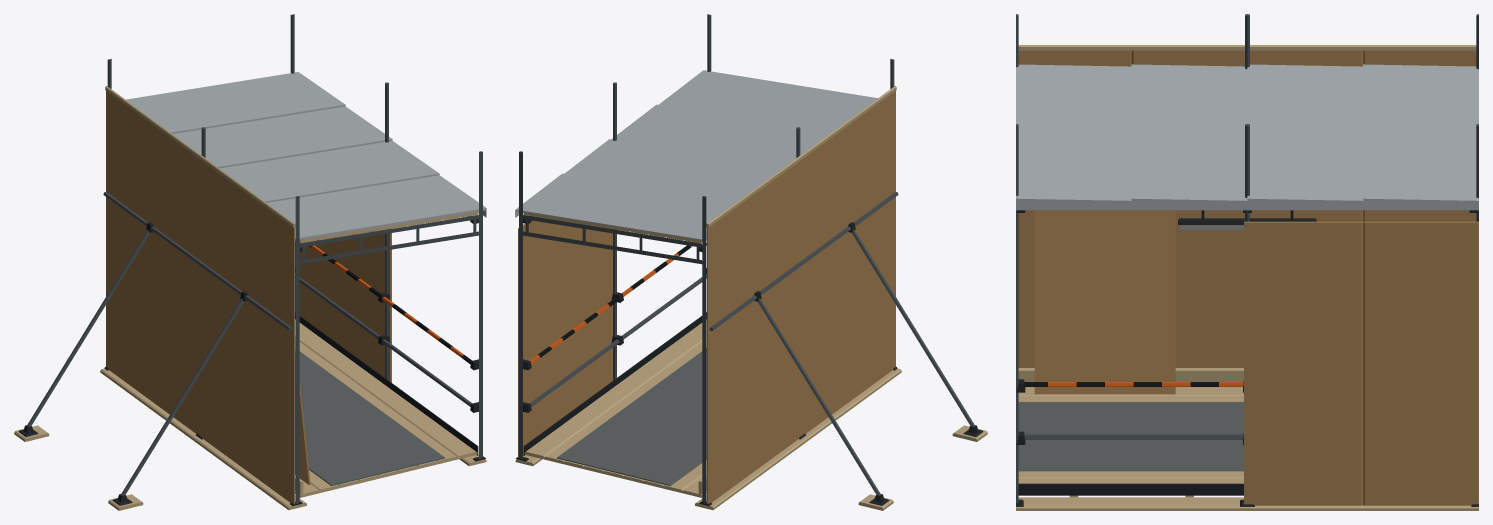
File: pedestrian-walkway-tunnel-0b194e.glb
The picture shows the model from 3 angles, left to right: view 1: azimuth 30°, elevation 25°; view 2: azimuth 150°, elevation 25°; view 3: azimuth 270°, elevation 25°; orthographic projection. The views are drawn at different scales.
Visible parts, largest first — view 1: tunnel, spare-sheet-mesh; view 2: tunnel; view 3: tunnel, spare-sheet-mesh, lamp.
Part boxes in pixels (x1,y1,x2,y2): tunnel: [14, 14, 486, 510]; spare-sheet-mesh: [295, 335, 310, 484]; tunnel: [515, 14, 987, 510]; tunnel: [1016, 14, 1478, 510]; spare-sheet-mesh: [1034, 210, 1175, 394]; lamp: [1178, 210, 1316, 229].
Size of the model in its own units: 4 by 3.65 by 4.
